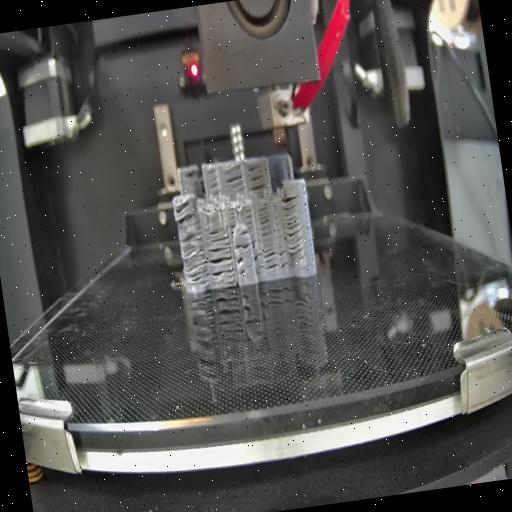cracks: (280, 194, 307, 256), (180, 234, 210, 288), (208, 244, 234, 283), (262, 240, 290, 272), (222, 170, 248, 196), (172, 201, 198, 226), (248, 164, 268, 192), (256, 204, 273, 236), (252, 237, 265, 274), (206, 170, 223, 198), (208, 224, 230, 244), (234, 238, 252, 252), (228, 206, 238, 230), (236, 255, 246, 277), (244, 207, 254, 229), (239, 228, 250, 237)
